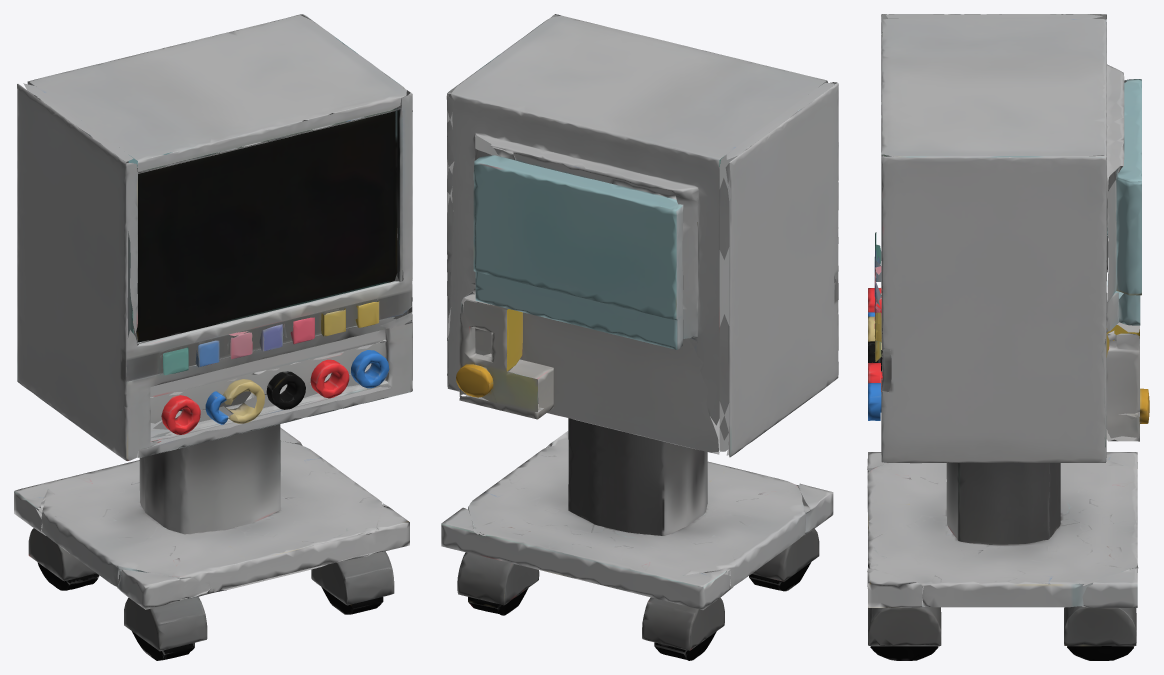
File: ecg-cart.glb
3 renders of one model, left to right at view 1: azimuth 30°, elevation 25°; view 2: azimuth 150°, elevation 25°; view 3: azimuth 270°, elevation 25°, orthographic. The views are drawn at different scales.
Parts seen in each view (by area): view 1: geometry_0; view 2: geometry_0; view 3: geometry_0.
Boxes of the visible parts, x1=… form: geometry_0: x1=14, y1=14, x2=412, y2=660; geometry_0: x1=441, y1=14, x2=838, y2=660; geometry_0: x1=867, y1=14, x2=1149, y2=660.
Size of the model in its own units: 0.5662 by 0.9583 by 0.4688.
Materials: 1 (1 with a texture image).
